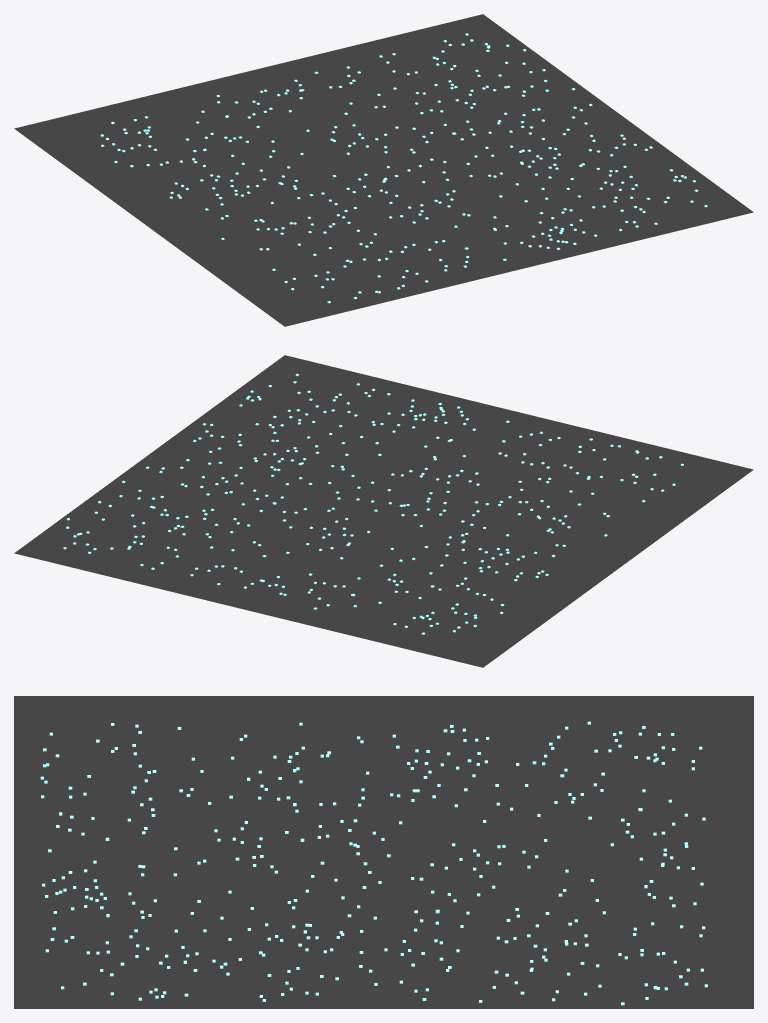
File: hyperfy_worlds.glb
3 renders of one model, top to bottom at view 1: azimuth 30°, elevation 25°; view 2: azimuth 150°, elevation 25°; view 3: azimuth 270°, elevation 25°, orthographic. The views are drawn at different scales.
Visible parts, largest first — view 1: Plane.016; view 2: Plane.016; view 3: Plane.016.
Part boxes in pixels (bbox=[...]): Plane.016: bbox=[14, 14, 753, 326]; Plane.016: bbox=[14, 355, 753, 667]; Plane.016: bbox=[14, 696, 753, 1008].
Bounding box in the file's own units: 44.45 × 0.2151 × 44.45.
